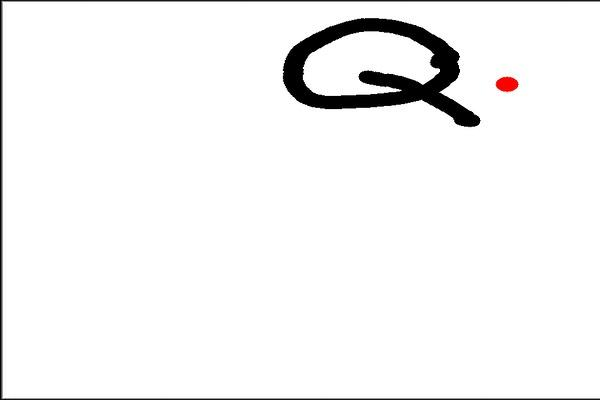Q: (280, 14, 479, 134)
